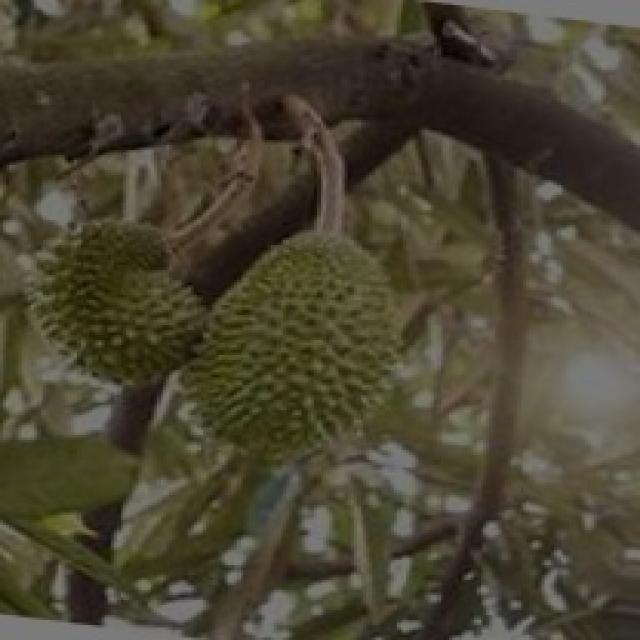fruit: (142, 193, 452, 535), (0, 193, 231, 425)
